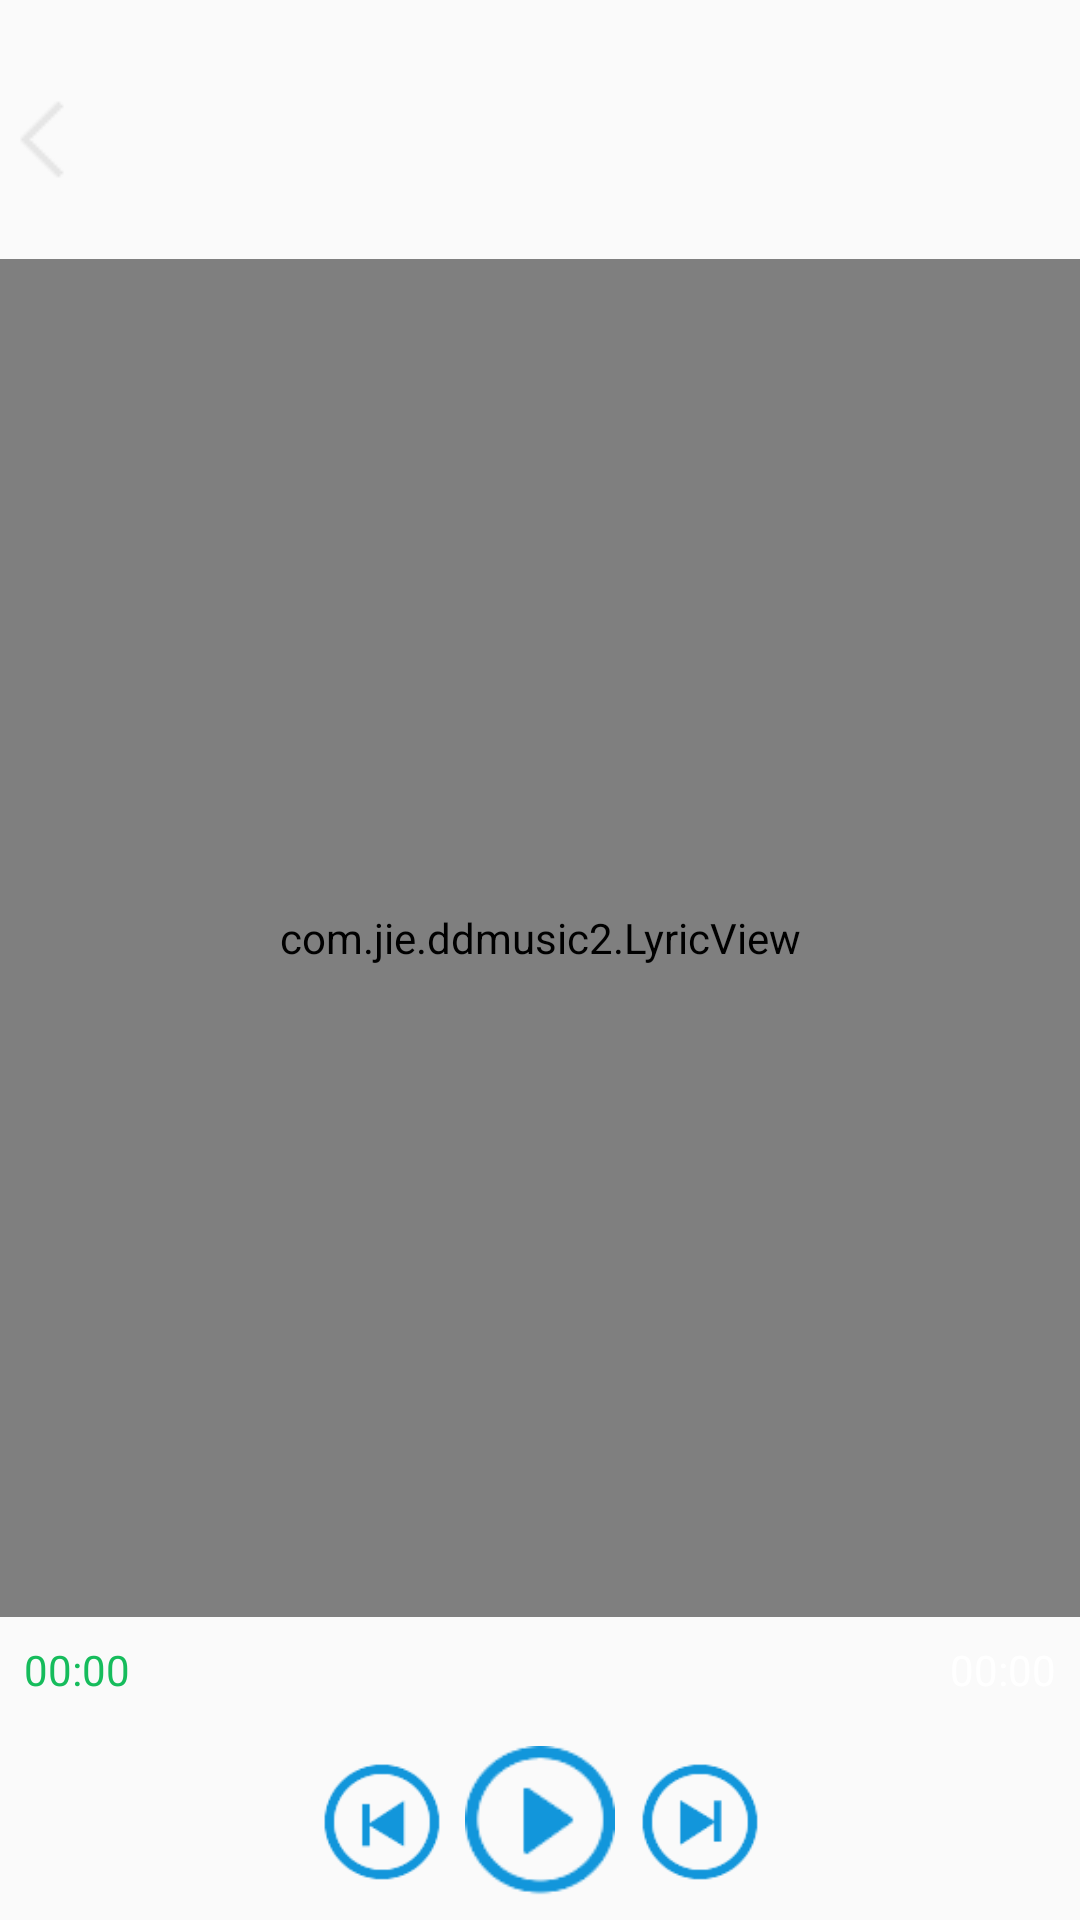

Icon click points for this 1080w x 1920h phone screenshot, format point (x, y):
nextmusic: point (700, 1822)
play: point (540, 1820)
upmusic: point (382, 1822)
